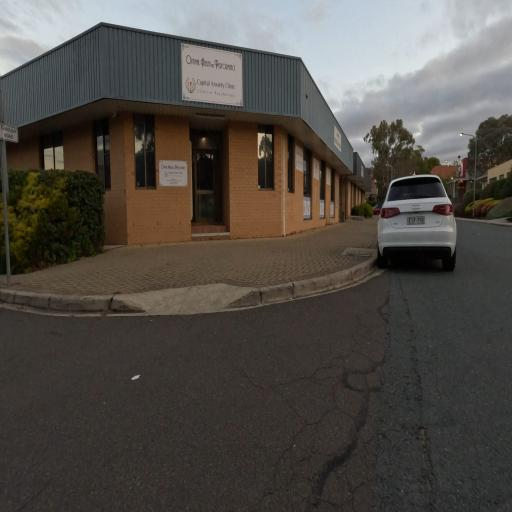kerb_cut: (119, 283, 258, 319)
